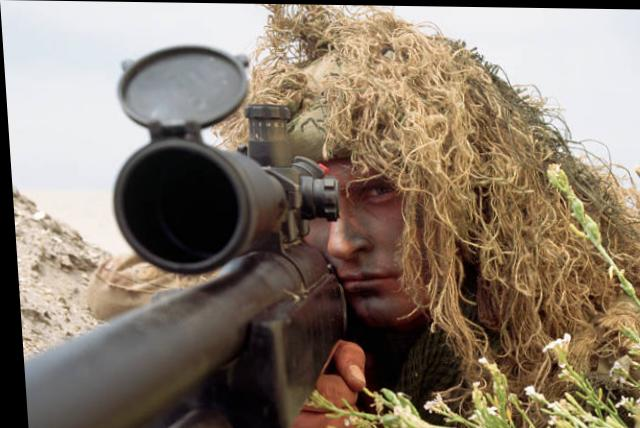other: (254, 27, 551, 426)
